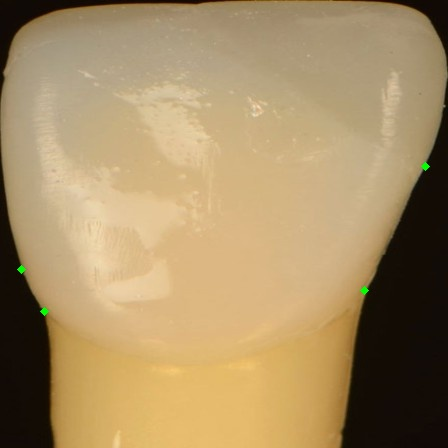coin_1: (364, 290, 384, 310)
coin_2: (425, 166, 445, 186)
coin_3: (44, 311, 64, 331)
coin_4: (21, 269, 41, 289)
